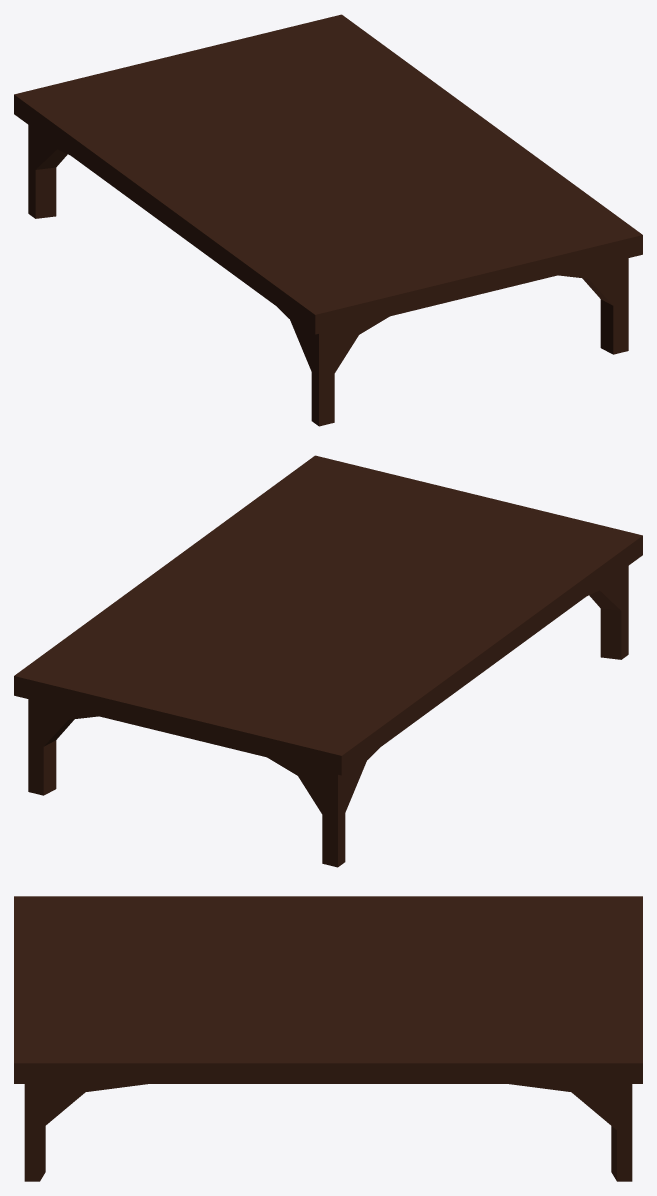
The model's file is table.fbx.
3 views of the same model, one above another, from view 1: azimuth 30°, elevation 25°; view 2: azimuth 150°, elevation 25°; view 3: azimuth 270°, elevation 25° (orthographic). The views are drawn at different scales.
Parts seen in each view (by area): view 1: Cube; view 2: Cube; view 3: Cube.
Boxes of the visible parts, x1,y1,x2,y2 form: Cube: (14,14,642,426); Cube: (14,455,642,867); Cube: (14,896,642,1181).
Size of the model in its own units: 844 by 289 by 1343.
